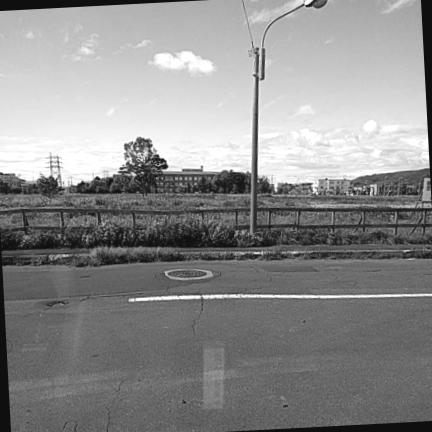Road: (3, 260, 431, 431)
